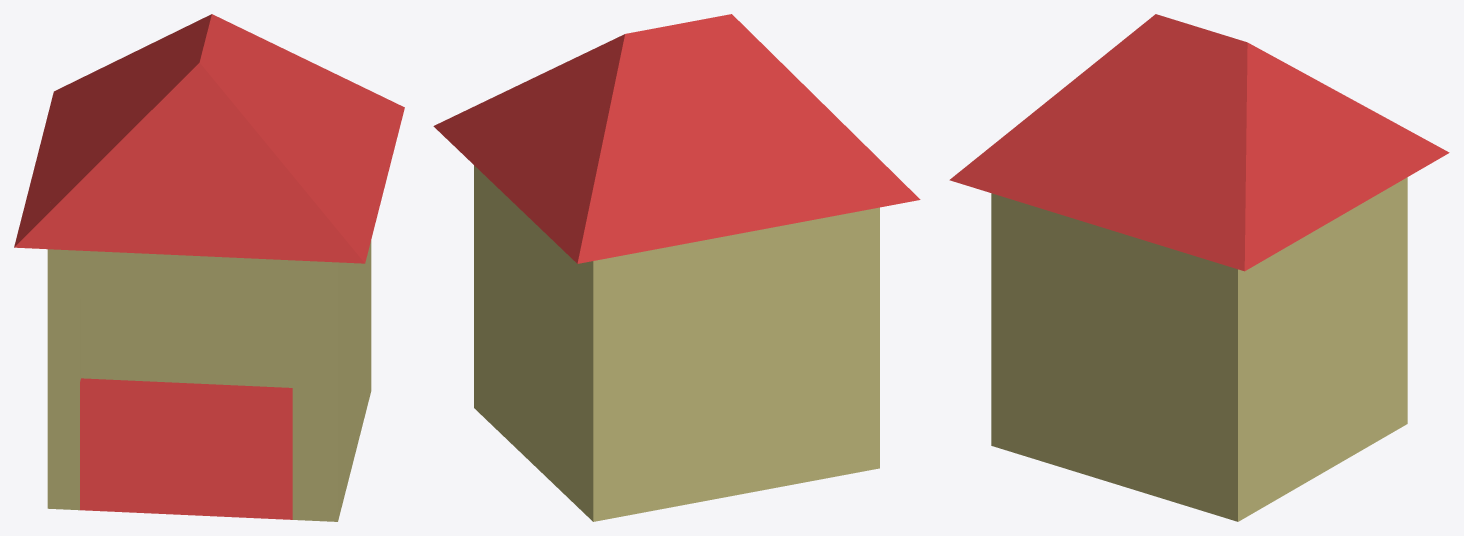
The picture shows the model from 3 angles, left to right: view 1: azimuth 30°, elevation 25°; view 2: azimuth 150°, elevation 25°; view 3: azimuth 270°, elevation 25°; orthographic projection. The views are drawn at different scales.
Visible parts, largest first — view 1: group_3, group_5, group_6, group_4; view 2: group_5, group_3, group_4; view 3: group_5, group_3.
Boxes of the visible parts, bbox=[...] form: group_3: bbox=[14, 14, 404, 263]; group_5: bbox=[47, 240, 371, 521]; group_6: bbox=[80, 378, 292, 519]; group_4: bbox=[14, 157, 347, 262]; group_5: bbox=[474, 165, 879, 521]; group_3: bbox=[433, 14, 919, 263]; group_4: bbox=[759, 156, 920, 199]; group_5: bbox=[991, 177, 1407, 521]; group_3: bbox=[949, 14, 1449, 271].
Bounding box in the file's own units: 16.46 × 16.59 × 14.82.
